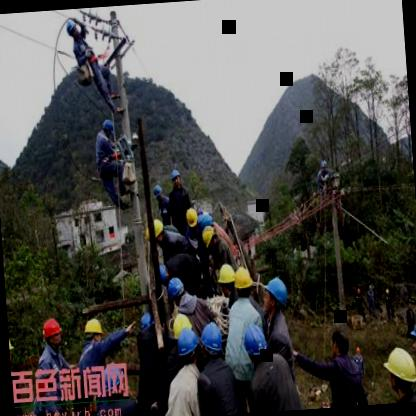head: (327, 326, 354, 356)
helmet: (380, 344, 416, 401), (262, 274, 290, 318), (244, 322, 270, 368), (199, 320, 224, 364), (176, 327, 200, 369), (218, 262, 240, 300), (172, 312, 194, 350), (42, 314, 63, 352), (82, 316, 104, 348), (166, 276, 186, 304), (406, 313, 416, 366), (139, 311, 157, 340), (150, 215, 168, 244), (200, 224, 219, 247), (169, 166, 184, 195), (100, 116, 116, 140), (184, 208, 199, 232), (152, 182, 166, 206), (8, 328, 16, 368), (64, 20, 80, 39)
